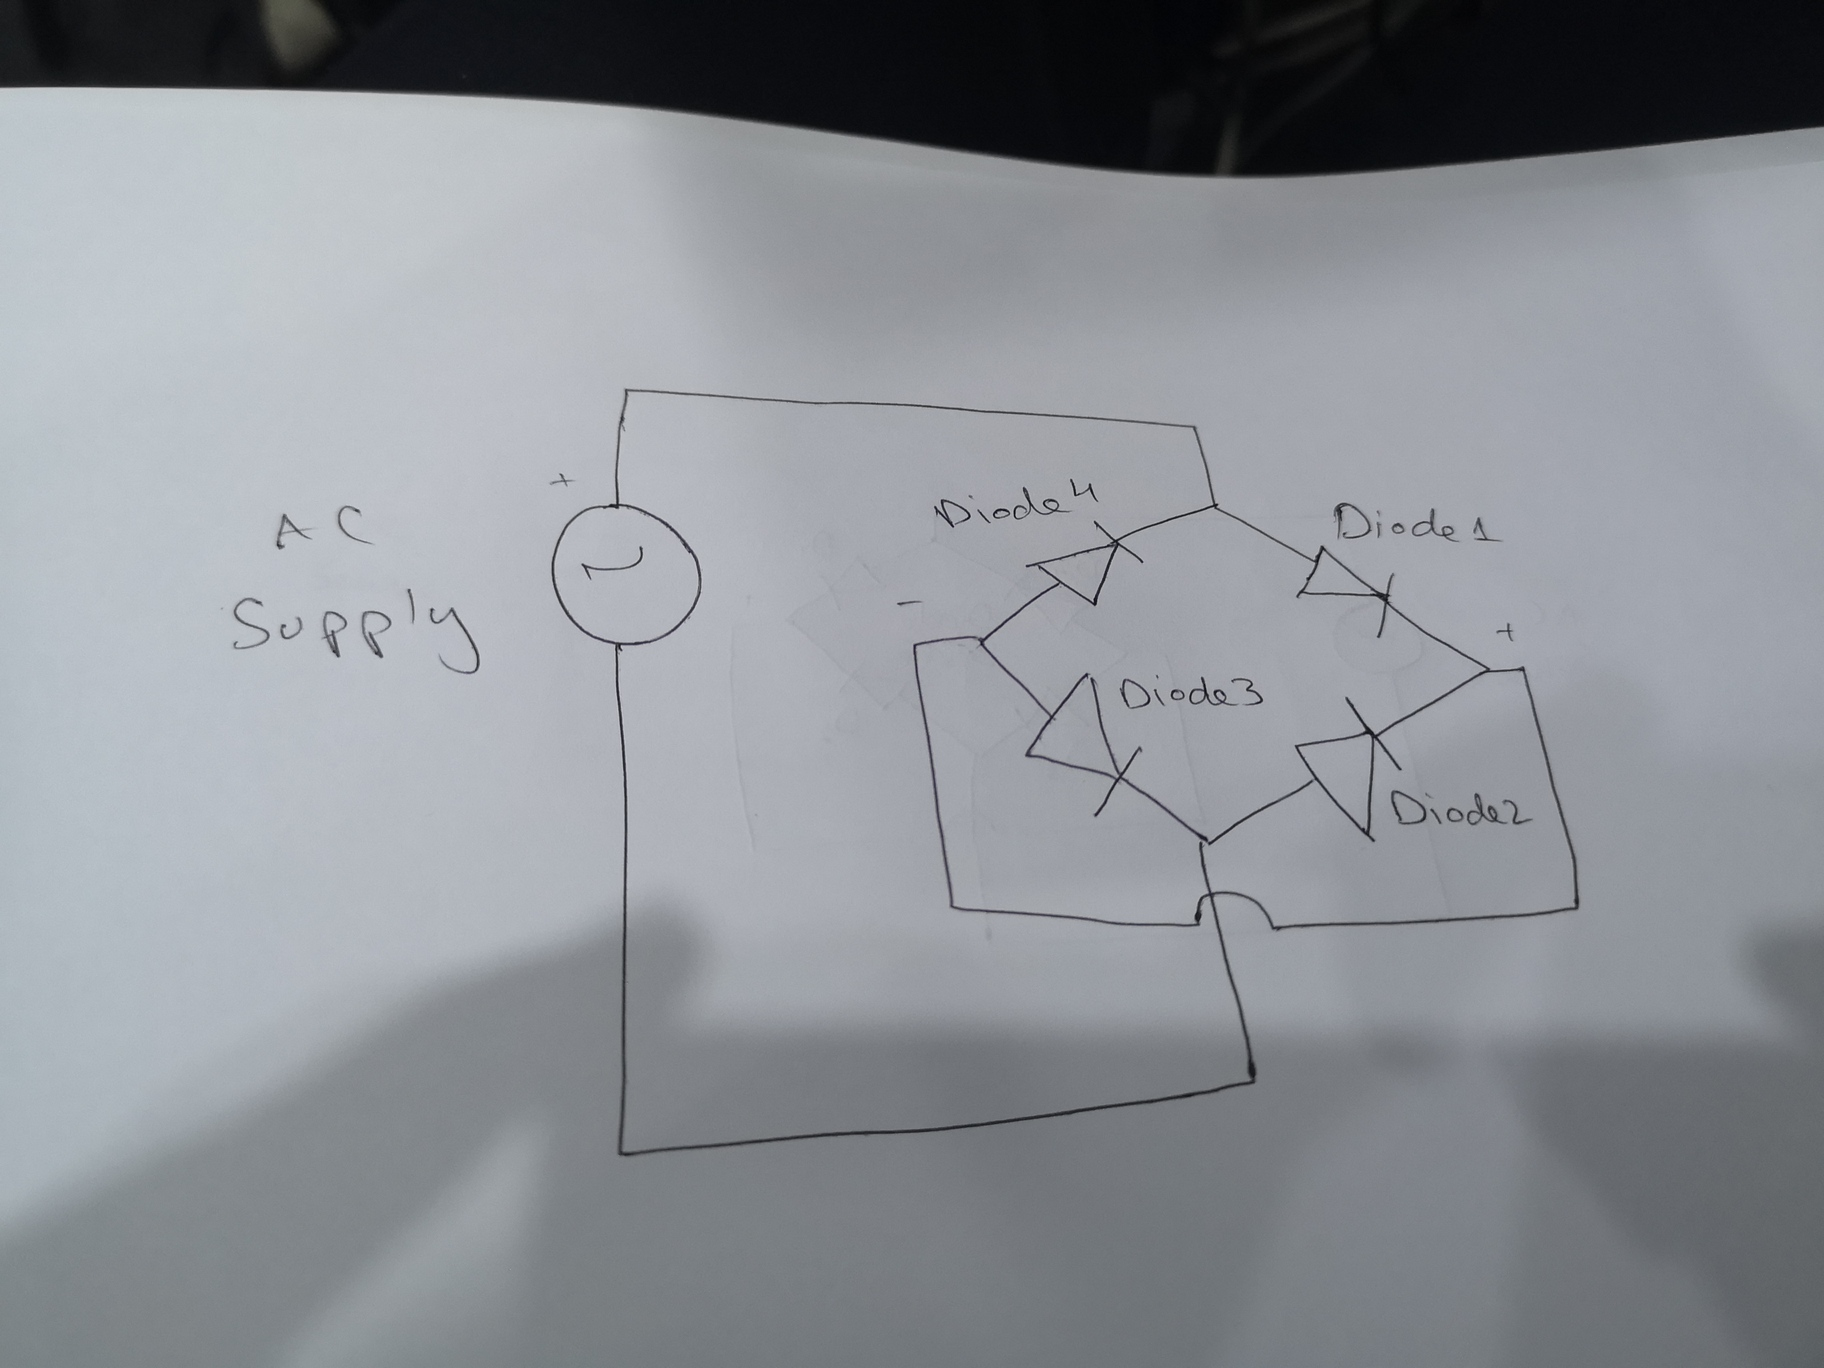crossover: (1183, 887, 1284, 941)
diode: (1021, 665, 1145, 819), (1291, 691, 1407, 846), (1023, 517, 1148, 611), (1303, 547, 1406, 629)
junction: (1186, 822, 1224, 854), (1237, 1060, 1265, 1096), (608, 1137, 638, 1167), (1201, 493, 1229, 519), (1563, 894, 1587, 921), (967, 629, 992, 654), (941, 894, 965, 918), (615, 379, 639, 402), (902, 635, 925, 657), (1183, 417, 1205, 435), (1512, 661, 1532, 677), (1478, 661, 1494, 680)
text: (225, 581, 485, 680), (932, 476, 1102, 532), (1329, 499, 1507, 546), (1115, 670, 1268, 714), (1387, 786, 1532, 831), (271, 500, 381, 558)
voltage.dc_ac: (539, 494, 708, 661)
